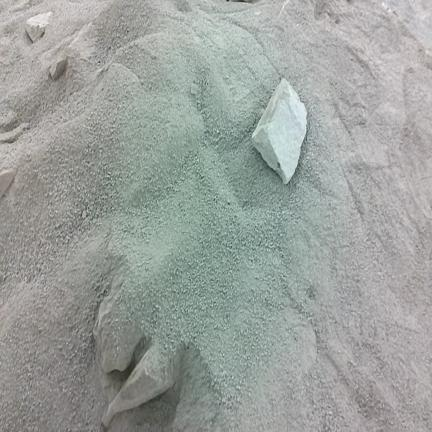Rock: (103, 342, 181, 426), (252, 79, 306, 183), (94, 278, 141, 372), (26, 12, 52, 41), (0, 123, 29, 143), (0, 169, 15, 197), (50, 56, 67, 80), (0, 111, 19, 132), (191, 83, 198, 94)
